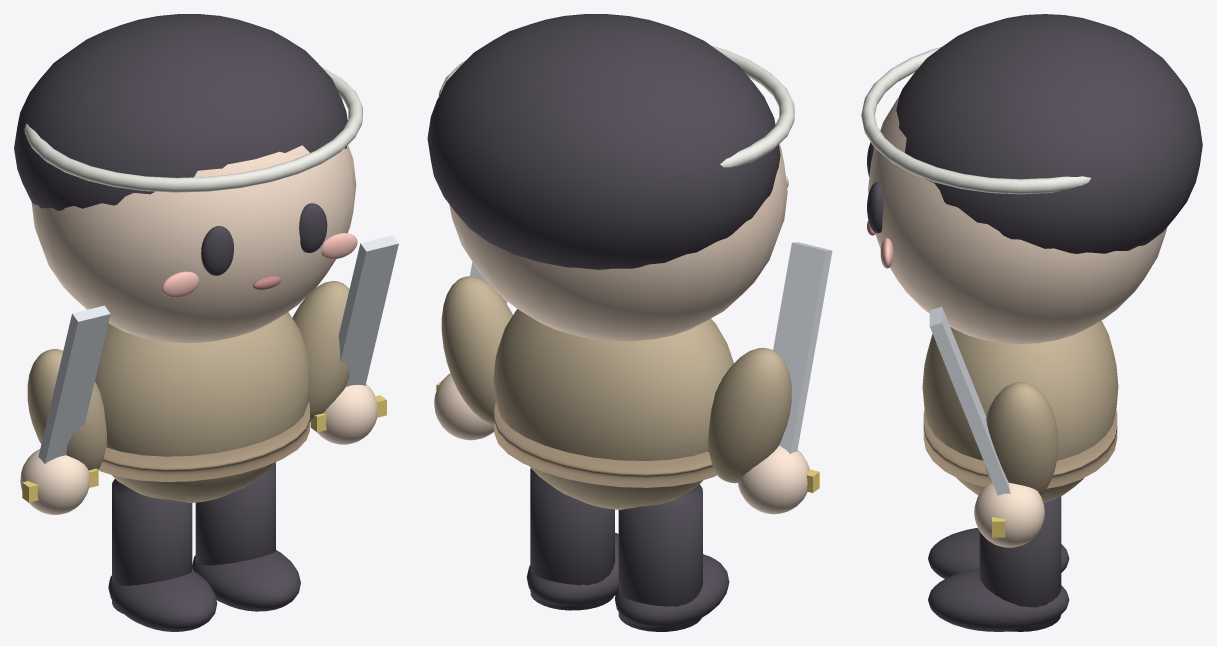
File: r_militia.fbx
3 views of the same model, side by side, from view 1: azimuth 30°, elevation 25°; view 2: azimuth 150°, elevation 25°; view 3: azimuth 270°, elevation 25° (orthographic). The views are drawn at different scales.
Visible parts, largest first — view 1: hair, head_mesh, body, leg, band, leg.001, wp_blade.001, belt, wp_blade, arm_mesh, shoe, shoe.001 (+7 smaller); view 2: hair, body, head_mesh, leg, arm_mesh.001, leg.001, arm_mesh, wp_blade.001, belt, hand_mesh.001, shoe, band (+2 smaller); view 3: hair, head_mesh, body, arm_mesh, leg.001, band, shoe.001, belt, wp_blade, hand_mesh, shoe, eye.001.
Boxes of the visible parts, box(x1,y1,x2,y2) form: hair: box(14, 14, 347, 210); head_mesh: box(31, 145, 356, 342); body: box(95, 312, 311, 502); leg: box(112, 479, 192, 613); band: box(24, 67, 362, 192); leg.001: box(195, 463, 275, 565); wp_blade.001: box(38, 305, 110, 463); belt: box(98, 401, 309, 481); wp_blade: box(338, 235, 398, 386); arm_mesh: box(292, 281, 349, 422); shoe: box(108, 570, 217, 631); shoe.001: box(192, 550, 300, 611); hair: box(427, 14, 780, 269); body: box(493, 309, 733, 509); head_mesh: box(449, 144, 787, 341); leg: box(618, 484, 702, 631); arm_mesh.001: box(708, 348, 791, 483); leg.001: box(530, 468, 614, 610); arm_mesh: box(441, 276, 512, 424); wp_blade.001: box(773, 242, 832, 453); belt: box(494, 402, 716, 487); hand_mesh.001: box(738, 445, 809, 514); shoe: box(615, 554, 729, 627); band: box(438, 45, 794, 167); hair: box(896, 14, 1202, 253); head_mesh: box(868, 97, 1167, 343); body: box(922, 320, 1118, 502); arm_mesh: box(984, 382, 1058, 495); leg.001: box(979, 496, 1061, 631); band: box(861, 47, 1090, 194); shoe.001: box(928, 569, 1069, 631); belt: box(923, 410, 1117, 488); wp_blade: box(929, 306, 1010, 495); hand_mesh: box(974, 482, 1044, 547); shoe: box(928, 528, 1069, 578); eye.001: box(867, 182, 883, 233).
Size of the model in its own units: 0.77 by 1.15 by 0.6276.
